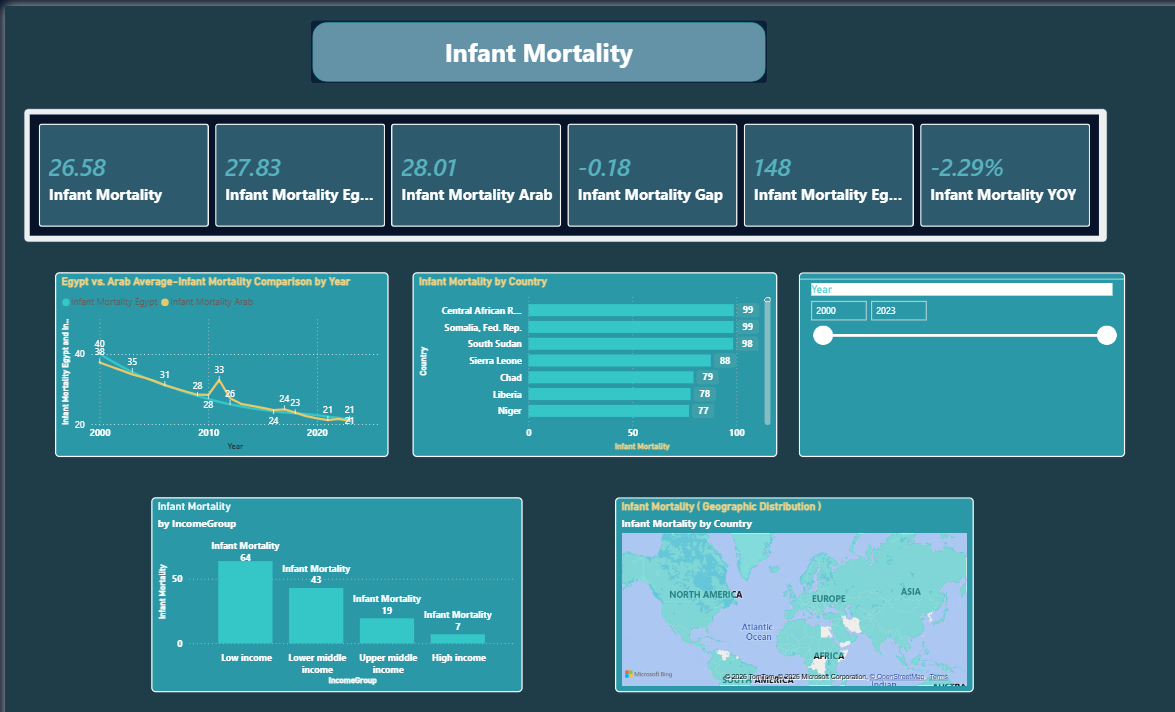

The dashboard page shown, as its layout file describes it:
{"tool":"powerbi","page":{"name":"Infant Mortality","canvas":[1920,1080],"ordinal":3},"visuals":[{"type":"cardVisual","fields":{"Data":["_Measures.Infant Mortality","_Measures.Infant Mortality Egypt","_Measures.Infant Mortality Arab","_Measures.Infant Mortality Gap","_Measures.Infant Mortality Egypt Rank","_Measures.Infant Mortality YOY"]},"box":[25,136.7,1445,178.3],"z":0},{"type":"shape","box":[406.7,18.3,610.5,85.7],"z":1000},{"type":"lineChart","title":"Egypt vs. Arab Average-Infant Mortality Comparison by Year","fields":{"Category":["Dim_Year.Year"],"Y":["_Measures.Infant Mortality Egypt","_Measures.Infant Mortality Arab"]},"box":[66.7,355,445,246.7],"z":2000},{"type":"clusteredBarChart","fields":{"Category":["Dim_Country.Country"],"Y":["_Measures.Infant Mortality"]},"box":[543.3,355,486.7,246.7],"z":3000},{"type":"slicer","fields":{"Values":["Dim_Year.Year"]},"box":[1058.3,355,435,246.7],"z":4000},{"type":"filledMap","title":"Infant Mortality ( Geographic Distribution )","fields":{"Category":["Dim_Country.Country"]},"box":[813.3,655,478.3,260],"z":5000},{"type":"clusteredColumnChart","fields":{"Category":["Dim_Country.IncomeGroup"],"Y":["_Measures.Infant Mortality"]},"box":[195,655,495,260],"z":6000}]}

Visuals, with their boxes on the page's 1920x1080 design canvas (x1, y1, x2, y2). These are canvas units, not pixel positions in the 1175x712 screenshot, which may show the page scaled, cropped or inside an application window:
cardVisual - _Measures.Infant Mortality x _Measures.Infant Mortality Egypt: (25, 137, 1470, 315)
shape: (407, 18, 1017, 104)
"Egypt vs. Arab Average-Infant Mortality Comparison by Year" lineChart: (67, 355, 512, 602)
clusteredBarChart - Dim_Country.Country x _Measures.Infant Mortality: (543, 355, 1030, 602)
slicer - Dim_Year.Year: (1058, 355, 1493, 602)
"Infant Mortality ( Geographic Distribution )" filledMap: (813, 655, 1292, 915)
clusteredColumnChart - Dim_Country.IncomeGroup x _Measures.Infant Mortality: (195, 655, 690, 915)
